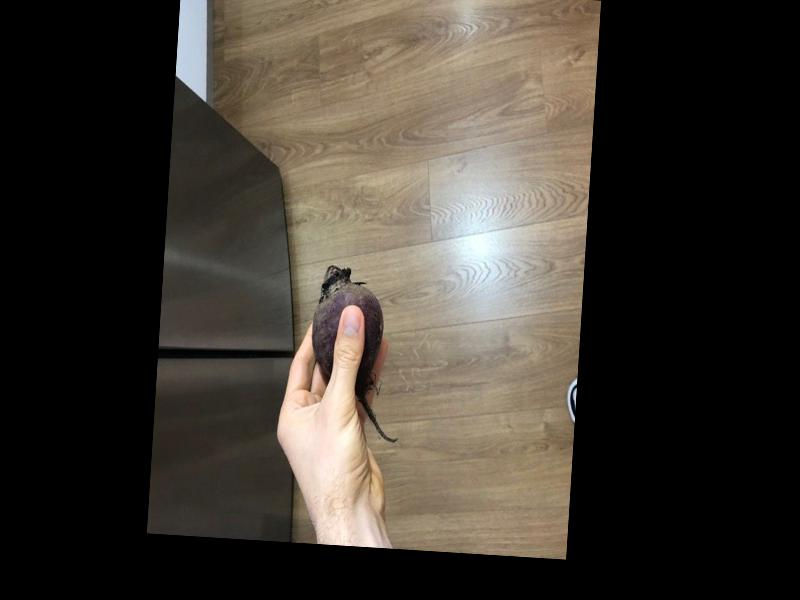Beet: (305, 263, 409, 440)
